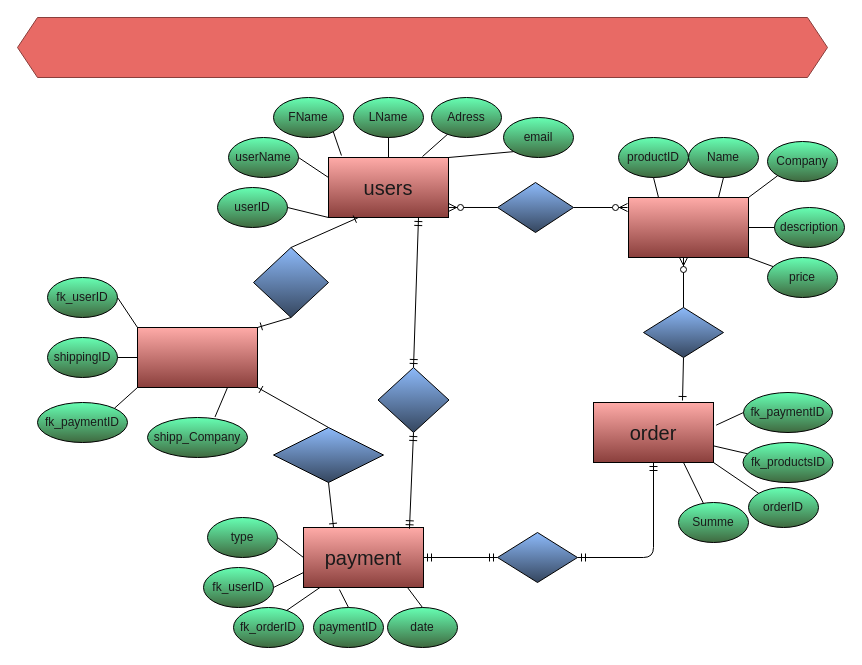
Some shapes in this 862 by 665 pixel diagram are drawn without their labels. Each missing label, with the box of its shape:
contain: (642, 306, 724, 358)
forwards order: (272, 426, 384, 482)
make: (377, 366, 449, 432)
orders: (496, 182, 574, 232)
processes: (496, 532, 578, 582)
products: (628, 196, 748, 258)
shipping: (136, 326, 258, 388)
ships: (252, 246, 328, 318)
STEP 1: ER Diagram: (16, 16, 828, 78)
